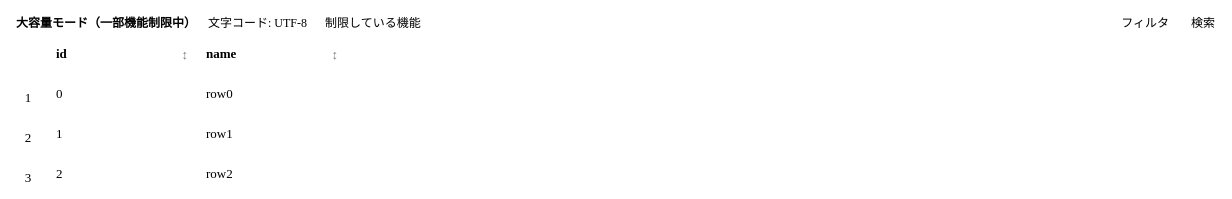
Scenario: LargeApp › セルを編集すると large/applyOps でハンドルを指定した行の置き換えを送り、即座に表示する
Double-click the cell "row1": [219, 134] box [198, 118, 348, 158]
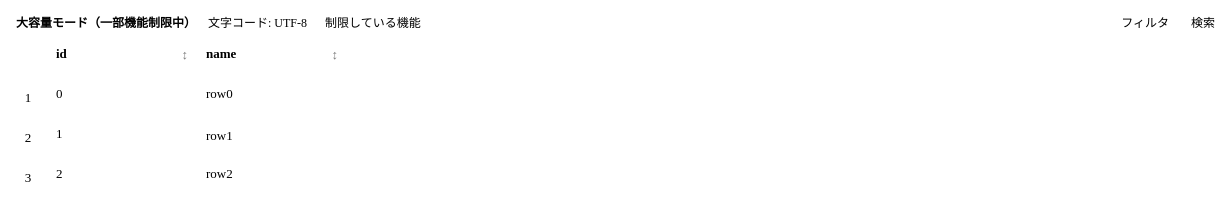
Replace the text in the text box named "セルの編集" with "edited": [273, 138] box [198, 118, 348, 158]
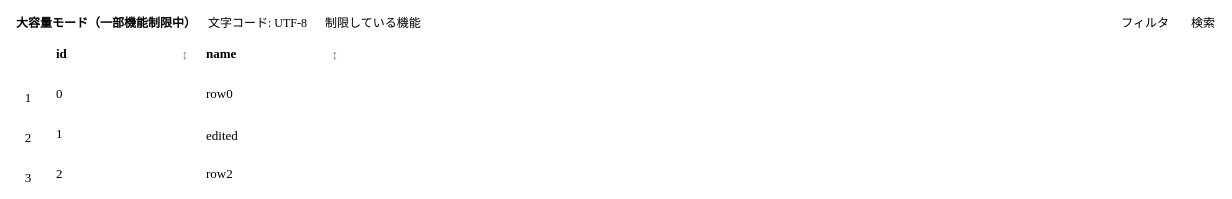
Press Enter in the text box named "セルの編集", box [198, 118, 348, 158]
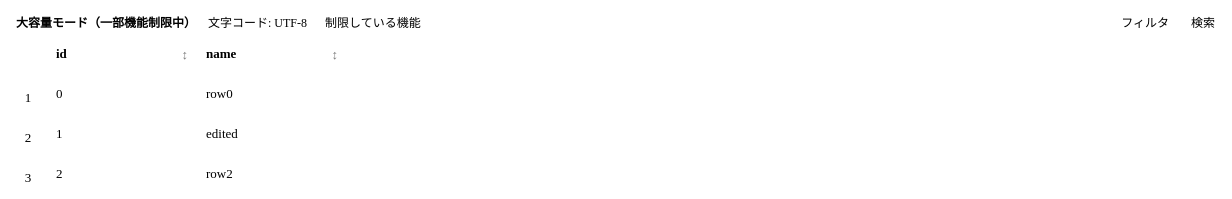
Result: the cell "edited" is shown at [198, 118, 348, 158]
